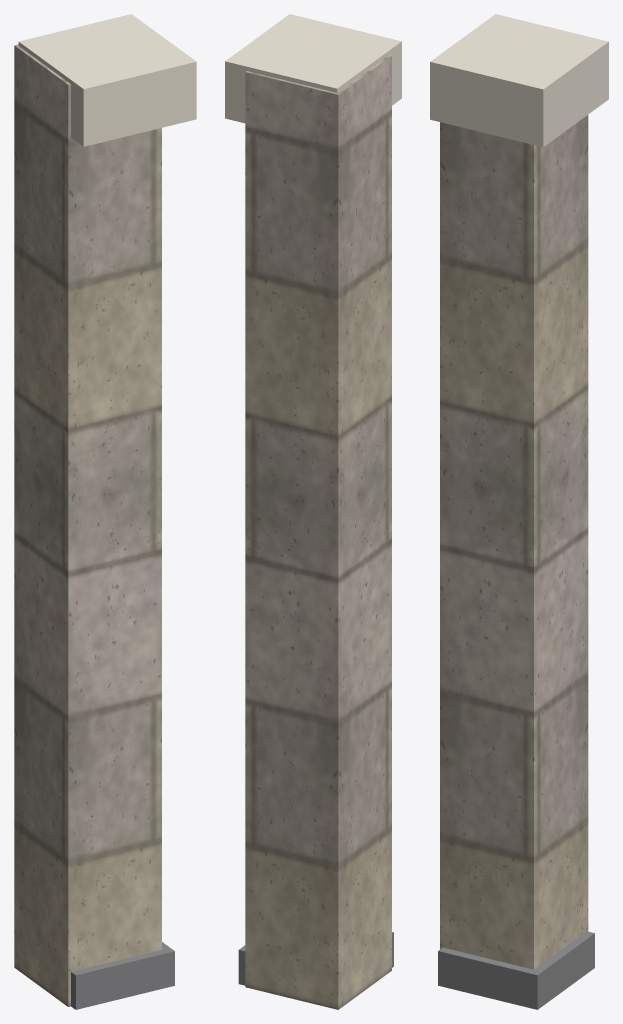
File: corner_ground.glb
The picture shows the model from 3 angles, left to right: view 1: azimuth 30°, elevation 25°; view 2: azimuth 150°, elevation 25°; view 3: azimuth 330°, elevation 25°; orthographic projection.
Visible parts, largest first — view 1: corner_ground_stone, corner_ground_trim, corner_ground_dark; view 2: corner_ground_stone, corner_ground_trim; view 3: corner_ground_stone, corner_ground_trim, corner_ground_dark.
Part boxes in pixels (left/top/right/bottom): corner_ground_stone: left=14, top=44, right=161, bottom=1006; corner_ground_trim: left=18, top=14, right=196, bottom=146; corner_ground_dark: left=71, top=942, right=174, bottom=1009; corner_ground_stone: left=245, top=55, right=391, bottom=1009; corner_ground_trim: left=225, top=14, right=401, bottom=123; corner_ground_stone: left=440, top=115, right=588, bottom=969; corner_ground_trim: left=430, top=14, right=608, bottom=147; corner_ground_dark: left=438, top=931, right=594, bottom=1009.
Bounding box in the file's own units: 0.42 × 3.21 × 0.42.
Materials: 3 (1 with a texture image).
